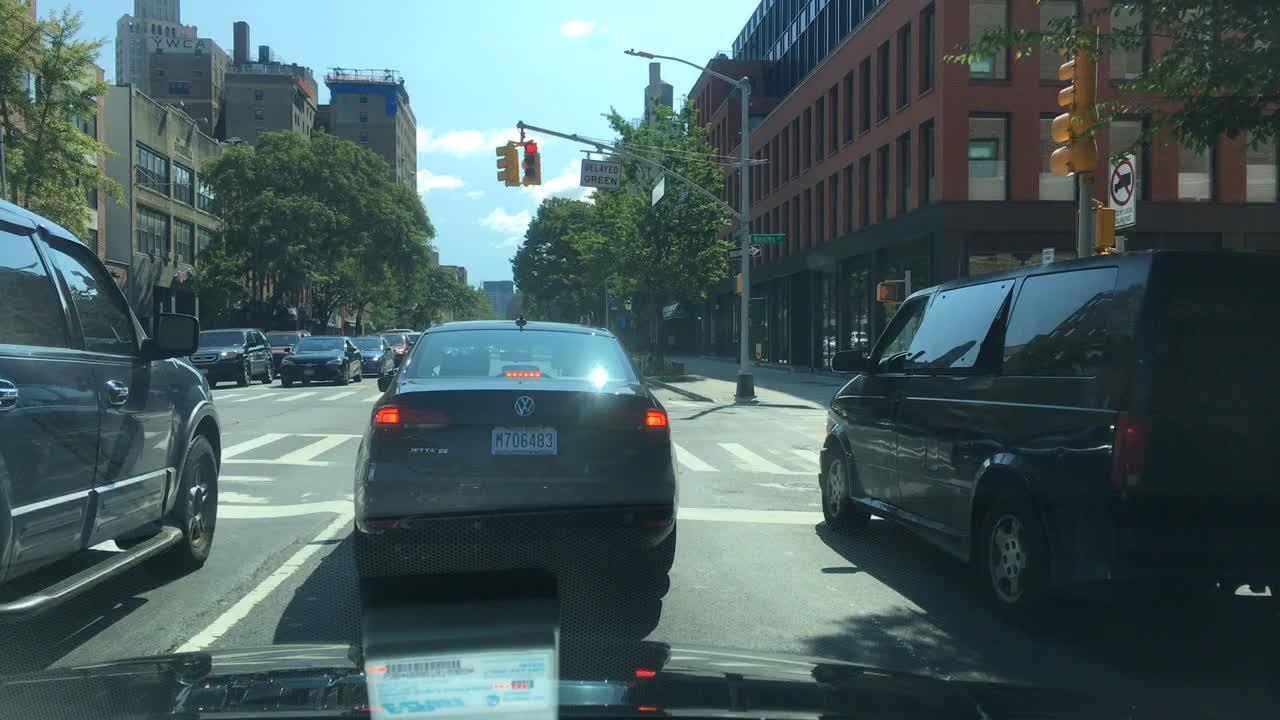Volkswagen: (509, 393, 546, 419)
